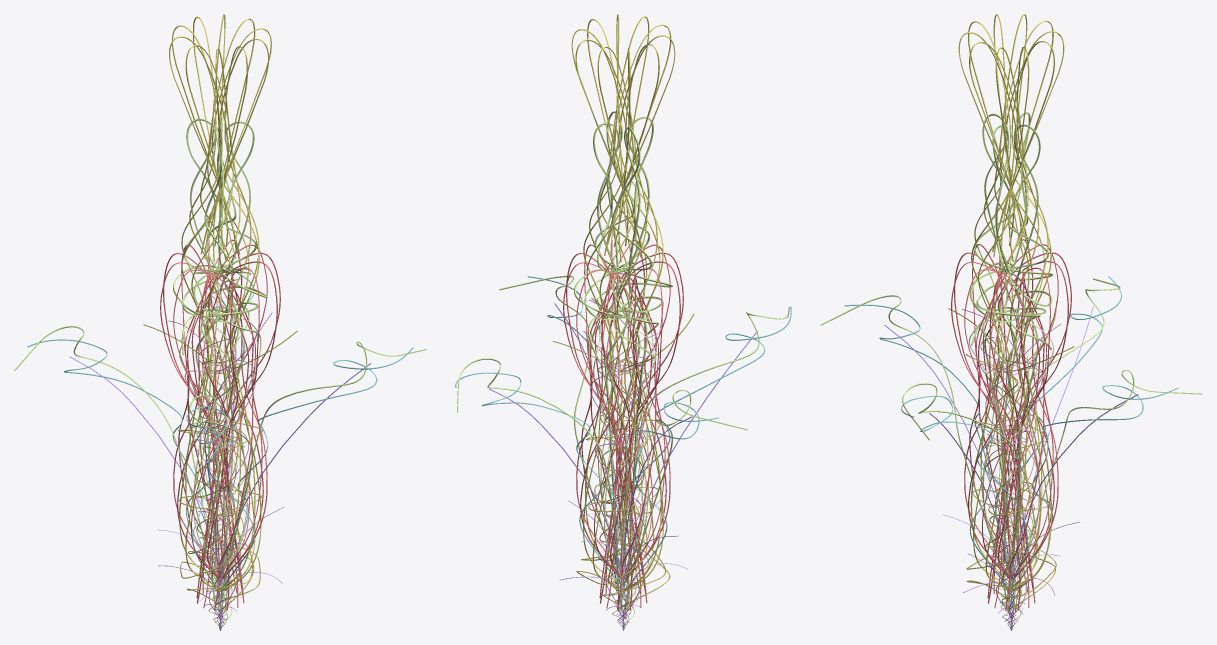
File: Strings.fbx
The picture shows the model from 3 angles, left to right: view 1: azimuth 30°, elevation 25°; view 2: azimuth 150°, elevation 25°; view 3: azimuth 270°, elevation 25°; orthographic projection.
Parts seen in each view (by area): view 1: strings; view 2: strings; view 3: strings.
Part boxes in pixels (x1,y1,x2,y2): strings: (14,14,426,630); strings: (455,14,791,630); strings: (820,14,1202,630).
Bounding box in the file's own units: 6718 × 11627 × 6718.
